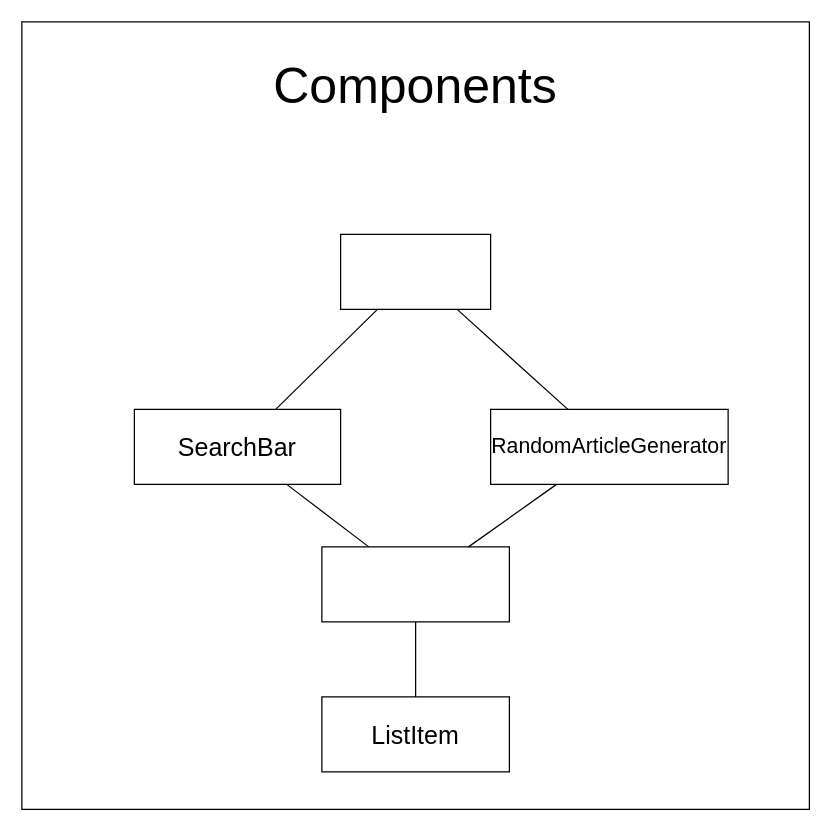
Some shapes in this 831 by 831 pixel diagram are drawn without their labels. Here are the shapes that lost their labels. From the top down, the centre of each, then its label:
(415,271): App
(415,584): ResultsList
